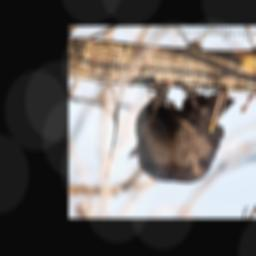Crow: (125, 79, 237, 184)
